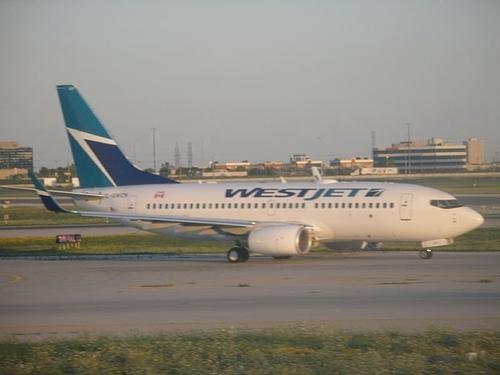truck: (351, 168, 398, 176)
